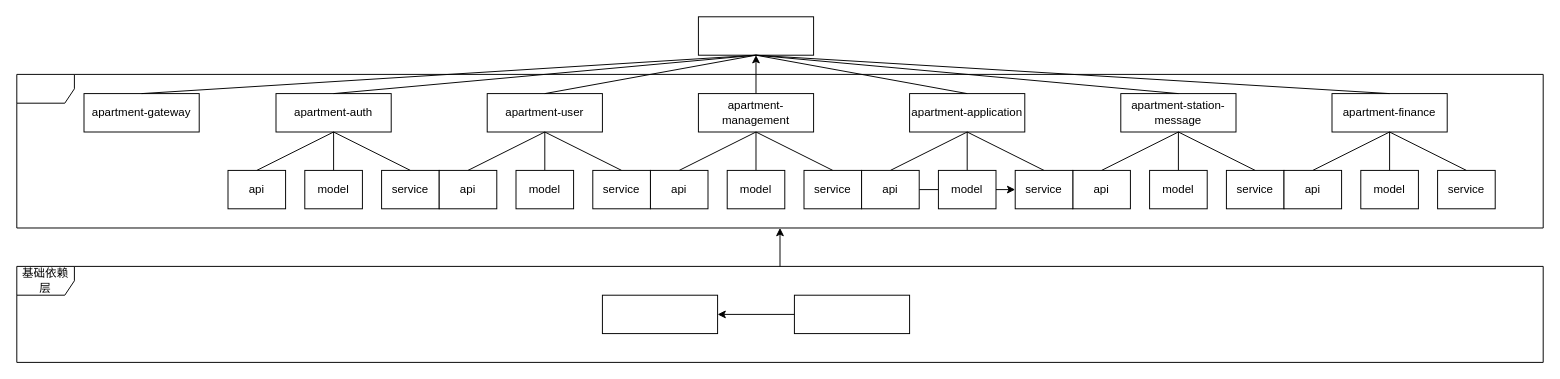
The diagram is 1560 pixels wide and 379 high, and some of its shapes have lost their labels. The box of each missing label's shape, as (x1, y1, x2, y2) in pixels:
apartment-base: (601, 294, 718, 334)
apartment-parent: (697, 16, 814, 55)
apartment-security-sdk: (793, 294, 910, 334)
微服务层: (16, 73, 1543, 228)
